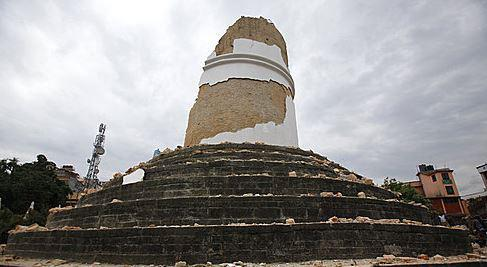major: (182, 8, 304, 158)
